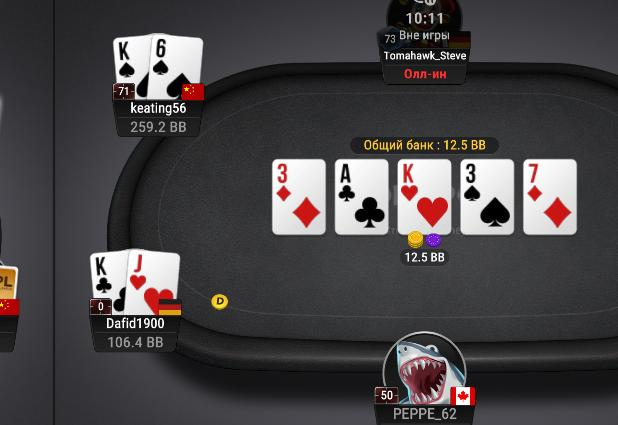3d: (272, 159, 326, 235)
3s: (461, 159, 515, 234)
6s: (150, 34, 204, 100)
7d: (523, 160, 577, 235)
Ac: (336, 159, 389, 237)
Jh: (127, 249, 181, 314)
Kc: (89, 252, 128, 314)
Kh: (398, 159, 452, 234)
Ks: (113, 35, 151, 99)
